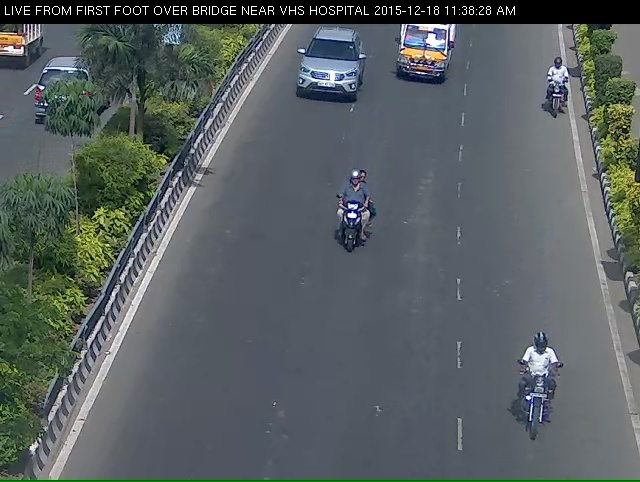Car: (287, 36, 359, 121), (392, 17, 458, 96)
Person: (516, 362, 571, 472), (324, 184, 374, 279), (538, 63, 574, 124)
